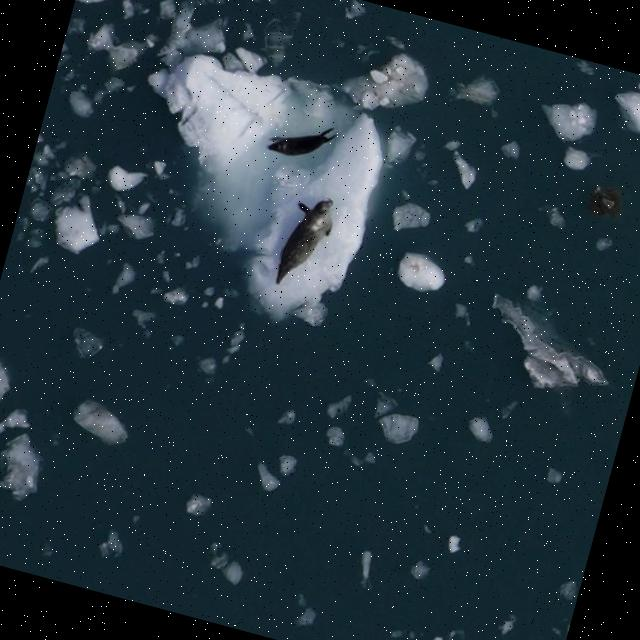seal: (276, 199, 337, 286), (266, 127, 337, 158)
